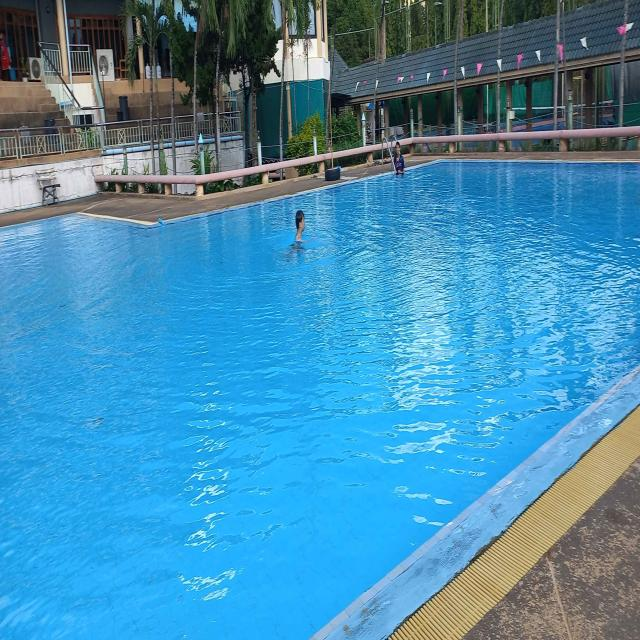Swimming: (286, 189, 310, 268)
